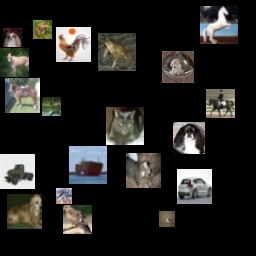airplane: (143, 203, 181, 241), (2, 168, 31, 197), (52, 18, 81, 47), (183, 81, 209, 107), (212, 182, 234, 204)
automobile: (202, 148, 234, 180), (201, 13, 230, 42)
bird: (117, 118, 146, 147), (2, 21, 31, 50)
cat: (85, 125, 107, 147)
deer: (66, 52, 85, 71), (160, 66, 176, 82)
dog: (91, 1, 117, 27)
frog: (5, 86, 40, 121), (96, 39, 115, 58)
ship: (130, 38, 149, 57)
